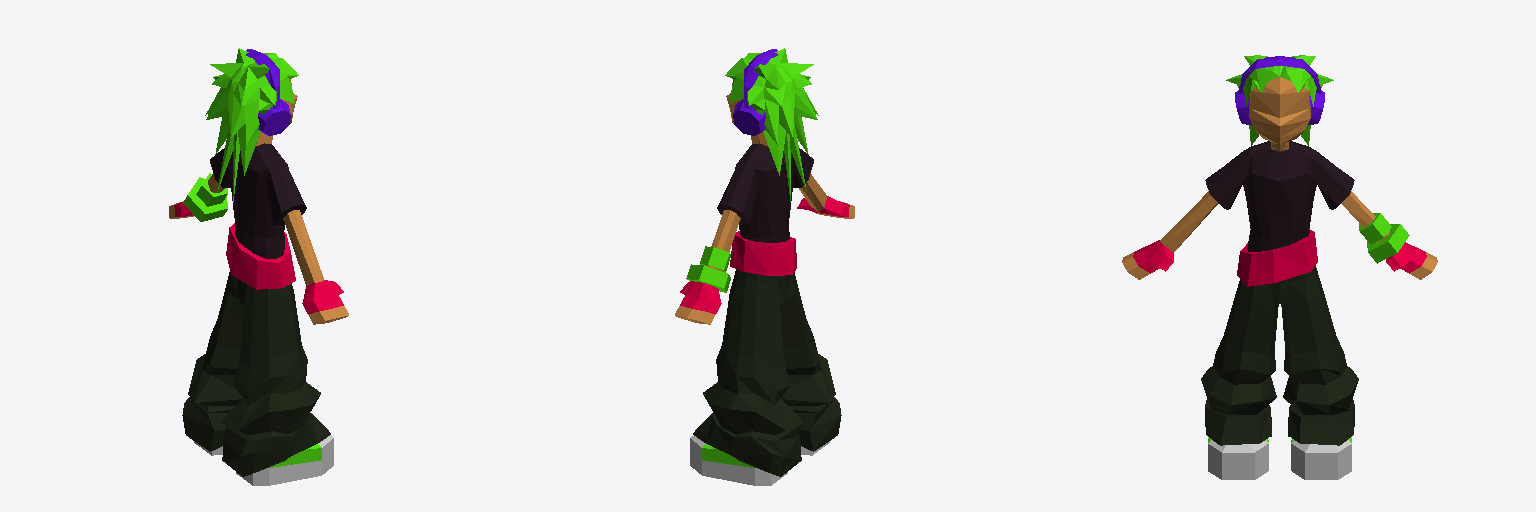
File: char1test.obj
3 renders of one model, left to right at view 1: azimuth 30°, elevation 25°; view 2: azimuth 150°, elevation 25°; view 3: azimuth 270°, elevation 25°, orthographic.
Visible parts, largest first — view 1: Cube; view 2: Cube; view 3: Cube.
Part boxes in pixels (left/top/right/bottom): Cube: left=169, top=48, right=348, bottom=485; Cube: left=675, top=48, right=854, bottom=485; Cube: left=1122, top=55, right=1437, bottom=479.
Bounding box in the file's own units: 3.66 × 14.36 × 10.27.